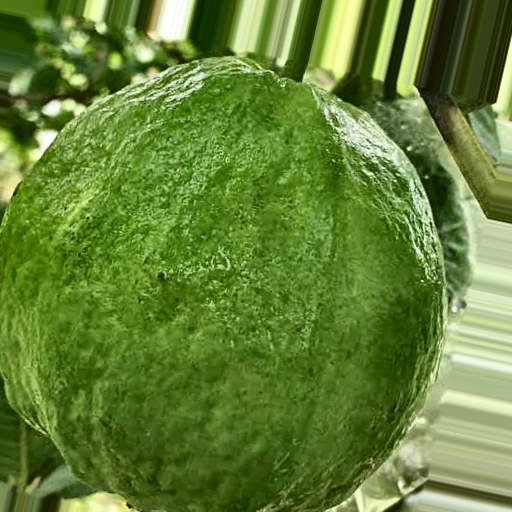guava: (39, 80, 377, 461)
